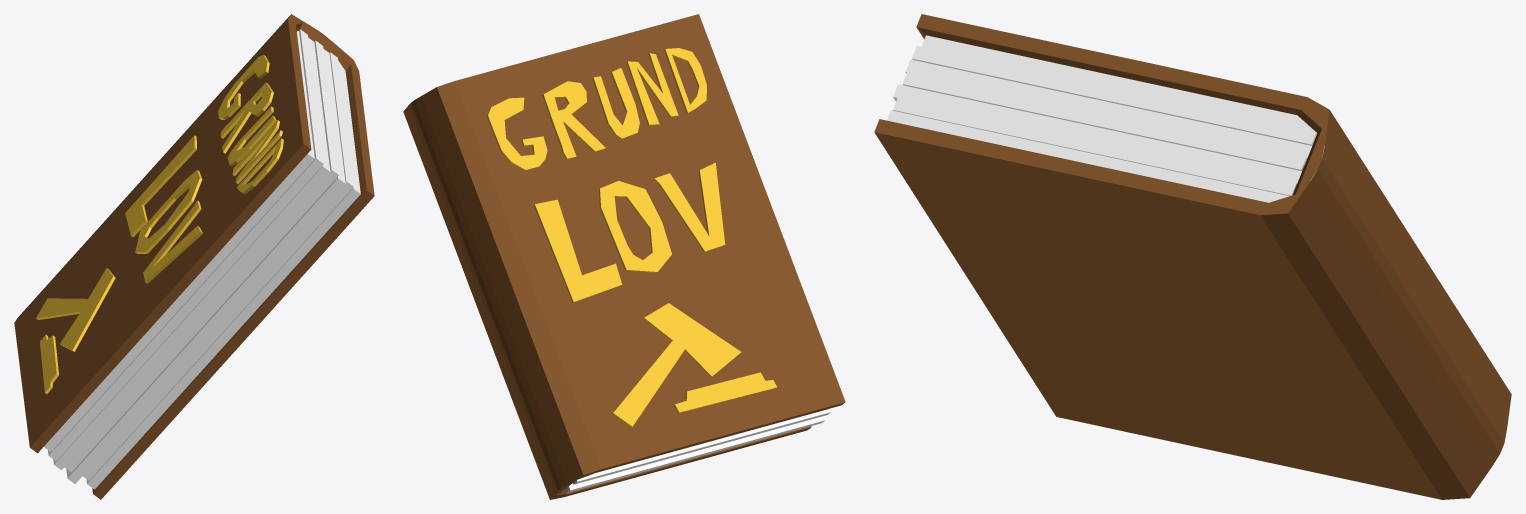
The model's file is grundlov.fbx.
3 views of the same model, side by side, from view 1: azimuth 30°, elevation 25°; view 2: azimuth 150°, elevation 25°; view 3: azimuth 270°, elevation 25° (orthographic). The views are drawn at different scales.
Visible parts, largest first — view 1: Cube; view 2: Cube; view 3: Cube.
Boxes of the visible parts, left/top/right/bottom form: Cube: left=14, top=14, right=374, bottom=499; Cube: left=403, top=14, right=845, bottom=499; Cube: left=874, top=14, right=1511, bottom=499.
Size of the model in its own units: 284 by 246 by 276.
